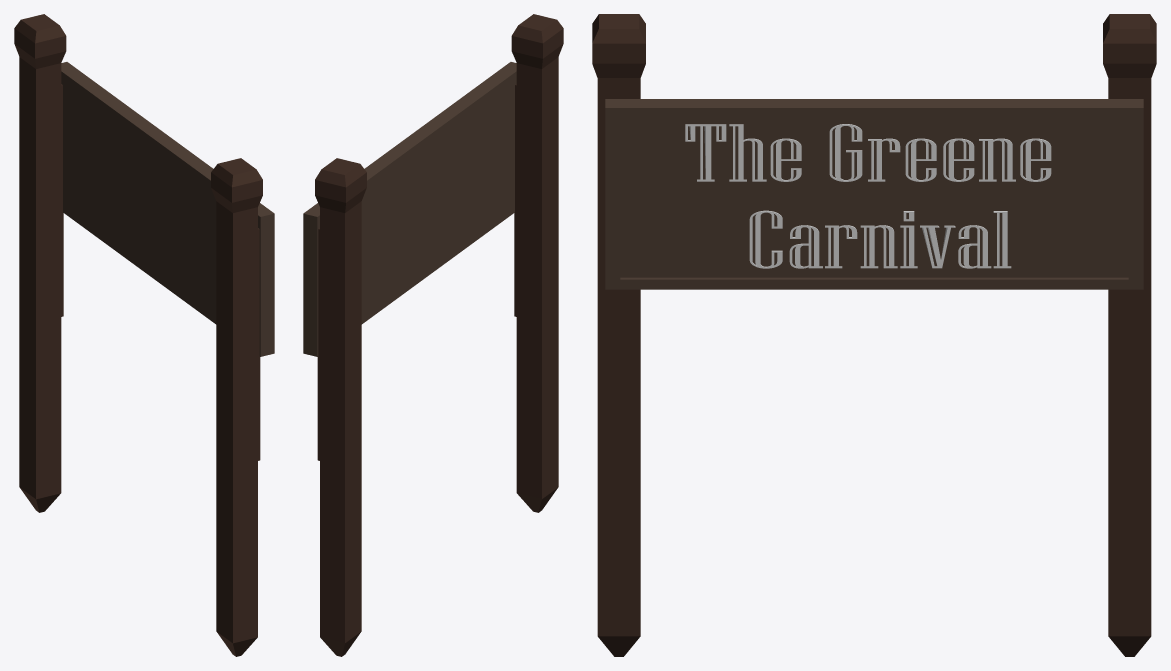
The model's file is big sign 1.fbx.
3 views of the same model, side by side, from view 1: azimuth 30°, elevation 25°; view 2: azimuth 150°, elevation 25°; view 3: azimuth 270°, elevation 25° (orthographic). The views are drawn at different scales.
Parts seen in each view (by area): view 1: Sign post.001, Sign.001; view 2: Sign post.001, Sign.001; view 3: Sign.001, Sign post.001, Text.001.
Boxes of the visible parts, left/top/right/bottom form: Sign post.001: left=14, top=14, right=262, bottom=656; Sign.001: left=61, top=62, right=274, bottom=356; Sign post.001: left=315, top=14, right=563, bottom=656; Sign.001: left=303, top=62, right=516, bottom=356; Sign.001: left=605, top=99, right=1143, bottom=289; Sign post.001: left=592, top=14, right=1156, bottom=656; Text.001: left=685, top=124, right=1051, bottom=268.
Bounding box in the file's own units: 93.68 × 914 × 738.
